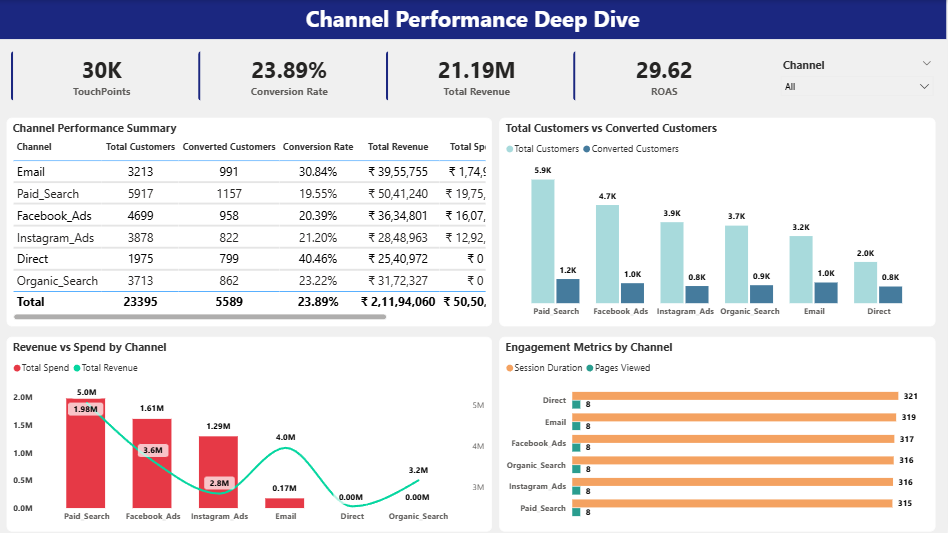

Layout of this report page (visuals, bound fields, positions):
{"tool":"powerbi","page":{"name":"Channel Performance","canvas":[1380,780],"ordinal":2},"visuals":[{"type":"textbox","box":[0,0,1379.2,57.3],"z":0},{"type":"cardVisual","fields":{"Data":["Sum(channel_summary.total_touchpoints)","channel_summary.Conversion Rate","Sum(channel_summary.total_revenue)","Sum(channel_summary.roas)"]},"box":[0,57.1,1121.8,106.3],"z":1000},{"type":"tableEx","title":"Channel Performance Summary","fields":{"Values":["channel_summary.channel","Sum(channel_summary.total_customers)","Sum(channel_summary.converted_customers)","channel_summary.Conversion Rate","Sum(channel_summary.total_revenue)","Sum(channel_summary.total_spend)","Sum(channel_summary.roas)","Sum(channel_summary.total_touchpoints)"]},"box":[10.4,170.9,706,303.8],"z":2000},{"type":"slicer","fields":{"Values":["channel_summary.channel"]},"box":[1128.9,77.7,241.7,72.5],"z":3000},{"type":"lineClusteredColumnComboChart","title":"Revenue vs Spend by Channel","fields":{"Category":["channel_summary.channel"],"Y":["Sum(channel_summary.total_spend)"],"Y2":["Sum(channel_summary.total_revenue)"]},"box":[10.4,490.2,706,283.1],"z":4000},{"type":"clusteredBarChart","title":"Engagement Metrics by Channel","fields":{"Category":["channel_summary.channel"],"Y":["Sum(channel_summary.avg_session_duration)","Sum(channel_summary.avg_pages_viewed)"]},"box":[728.4,490.2,635.2,283.1],"z":5000},{"type":"clusteredColumnChart","title":"Total Customers vs Converted Customers","fields":{"Category":["channel_summary.channel"],"Y":["Sum(channel_summary.total_customers)","Sum(channel_summary.converted_customers)"]},"box":[728.4,170.9,635.2,303.8],"z":6000}]}

Visuals, with their boxes in screenshot pixels (x1, y1, x2, y2), scaled from the page's 1380x780 canvas onto the 948x533 screenshot:
textbox: box=[0, 0, 947, 39]
cardVisual - Sum(channel_summary.total_touchpoints) x channel_summary.Conversion Rate: box=[0, 39, 771, 112]
"Channel Performance Summary" tableEx: box=[7, 117, 492, 324]
slicer - channel_summary.channel: box=[776, 53, 942, 103]
"Revenue vs Spend by Channel" lineClusteredColumnComboChart: box=[7, 335, 492, 528]
"Engagement Metrics by Channel" clusteredBarChart: box=[500, 335, 937, 528]
"Total Customers vs Converted Customers" clusteredColumnChart: box=[500, 117, 937, 324]
